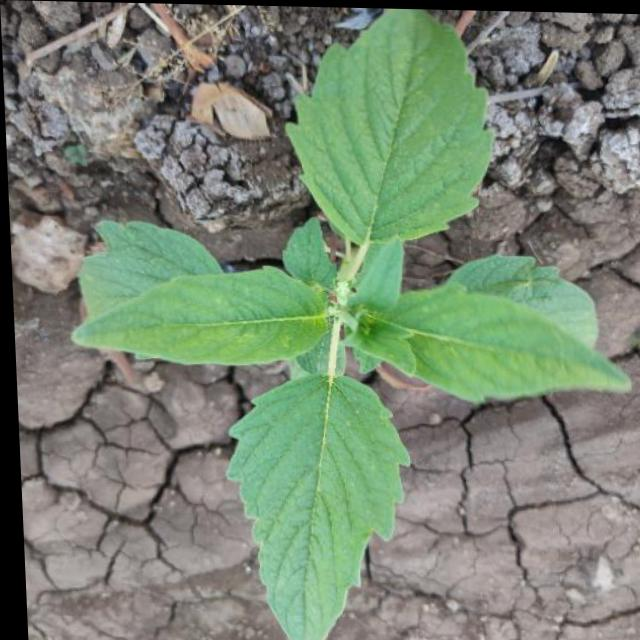crop: (48, 6, 640, 640)
